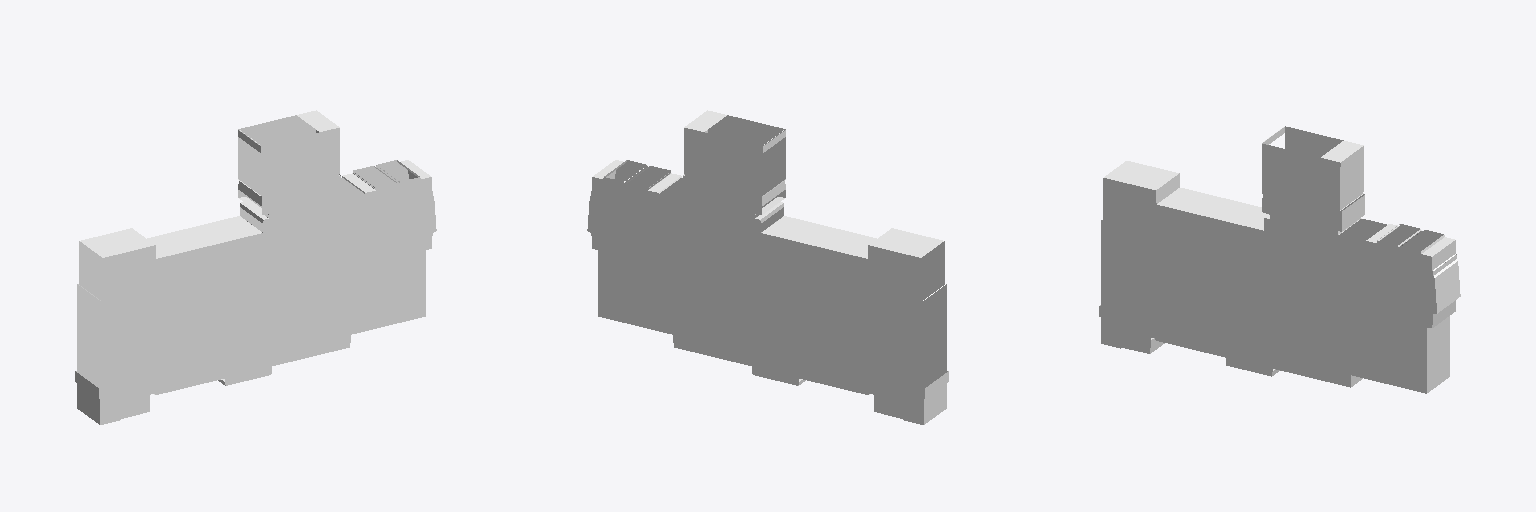
3 views of the same model, side by side, from view 1: azimuth 30°, elevation 25°; view 2: azimuth 150°, elevation 25°; view 3: azimuth 330°, elevation 25° (orthographic).
Parts seen in each view (by area): view 1: Object.1; view 2: Object.1; view 3: Object.1.
Part boxes in pixels (x1,y1,x2,y2): Object.1: (75,110,436,424); Object.1: (587,110,948,424); Object.1: (1099,126,1460,393).
Bounding box in the file's own units: 174 × 118 × 20.9.
1 materials, 1 textured.